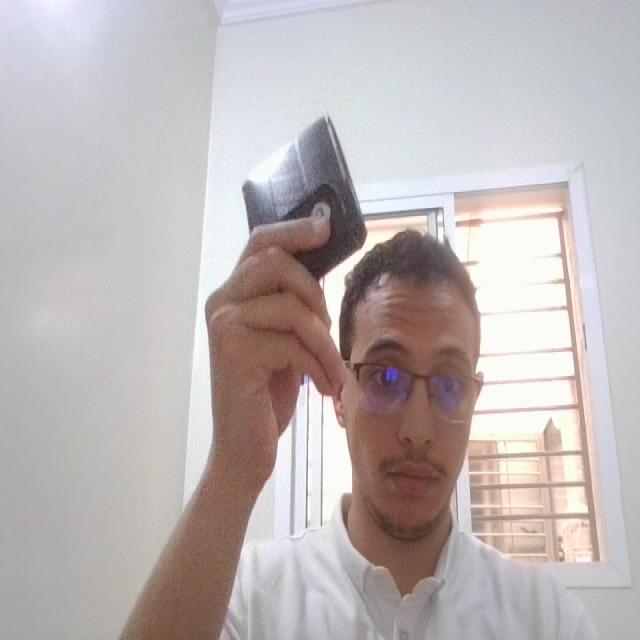wallet: (237, 108, 372, 298)
